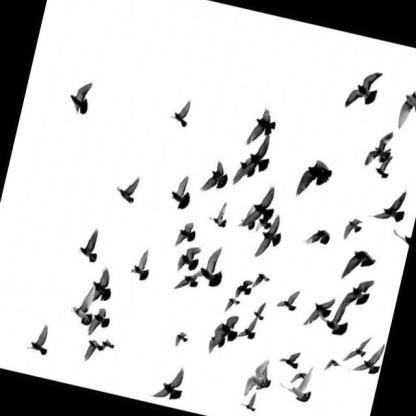bird: (240, 180, 281, 235), (238, 128, 276, 185), (367, 180, 412, 226), (295, 155, 336, 205), (189, 241, 230, 290), (147, 360, 189, 407), (313, 292, 355, 338), (344, 66, 383, 115), (276, 360, 318, 404), (243, 104, 280, 152), (253, 211, 287, 262), (241, 356, 277, 403), (340, 245, 379, 287), (67, 279, 101, 326), (363, 127, 397, 172), (302, 290, 338, 332), (351, 337, 386, 377), (200, 156, 233, 198), (339, 273, 376, 310), (341, 328, 373, 369), (88, 264, 119, 305), (76, 224, 105, 267), (167, 172, 196, 212), (211, 311, 242, 348), (394, 86, 416, 136), (66, 77, 94, 116), (128, 245, 156, 284), (25, 322, 53, 358), (85, 305, 113, 340), (232, 153, 259, 189), (175, 242, 203, 276), (206, 196, 233, 231), (113, 173, 141, 206), (206, 321, 230, 358), (173, 267, 203, 296), (173, 219, 199, 252), (302, 224, 332, 251), (168, 96, 192, 129), (237, 201, 261, 232), (82, 337, 106, 366), (236, 312, 260, 341), (341, 215, 365, 243), (238, 387, 261, 416), (372, 152, 394, 181), (276, 286, 300, 312), (278, 347, 302, 371), (234, 277, 255, 303), (255, 211, 274, 235), (251, 271, 271, 293), (323, 356, 344, 376), (172, 328, 190, 351), (250, 300, 268, 322), (224, 296, 242, 316), (290, 369, 308, 388), (99, 338, 116, 353)
